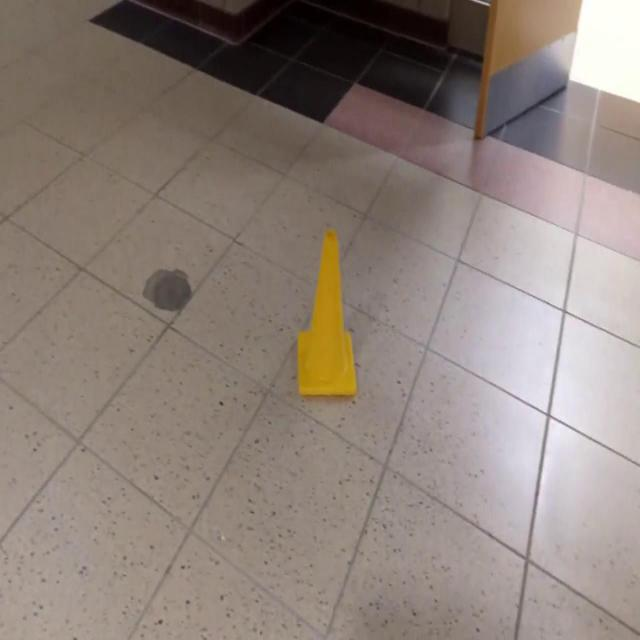frc_cone: (297, 228, 359, 400)
